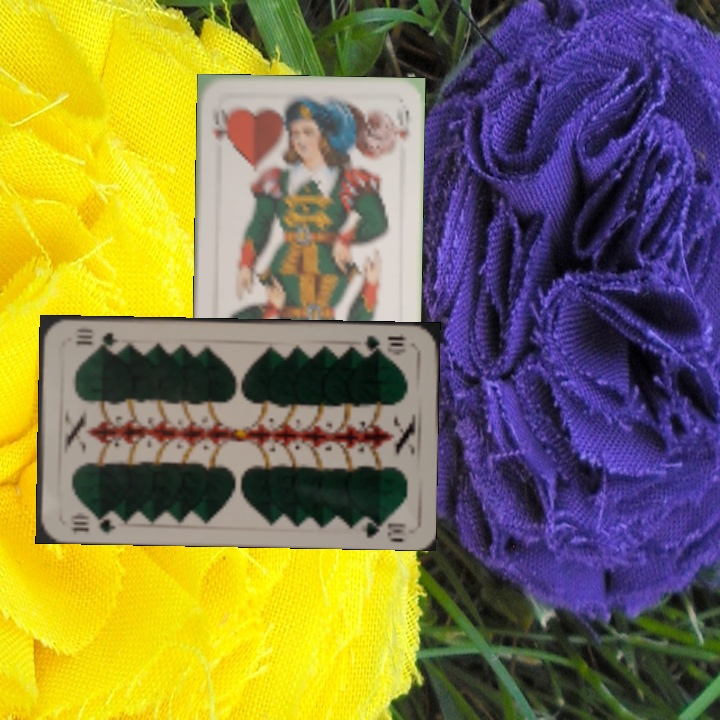G10: (67, 508, 118, 535), (360, 331, 409, 355)
HO: (208, 103, 230, 145)
